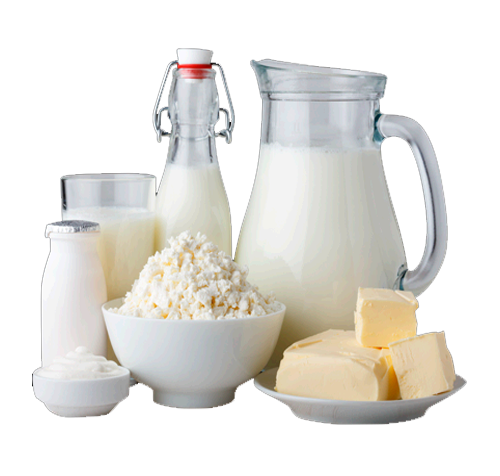glass of milk: (247, 54, 430, 337), (156, 52, 239, 262), (53, 175, 161, 299)
